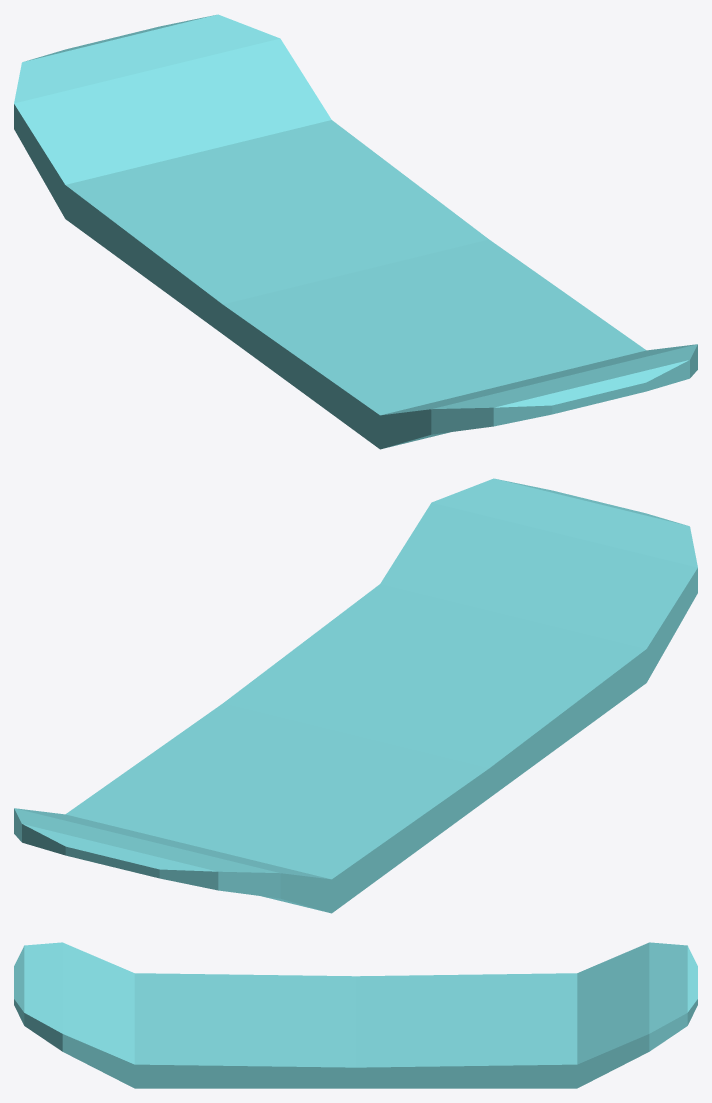
The model's file is hoverboard.fbx.
The picture shows the model from 3 angles, top to bottom: view 1: azimuth 30°, elevation 25°; view 2: azimuth 150°, elevation 25°; view 3: azimuth 270°, elevation 25°; orthographic projection. The views are drawn at different scales.
Visible parts, largest first — view 1: hoverboard; view 2: hoverboard; view 3: hoverboard.
Part boxes in pixels (x1,y1,x2,y2): hoverboard: (14, 14, 697, 449); hoverboard: (14, 478, 697, 913); hoverboard: (14, 942, 697, 1088).
Bounding box in the file's own units: 66.53 × 24.93 × 210.
